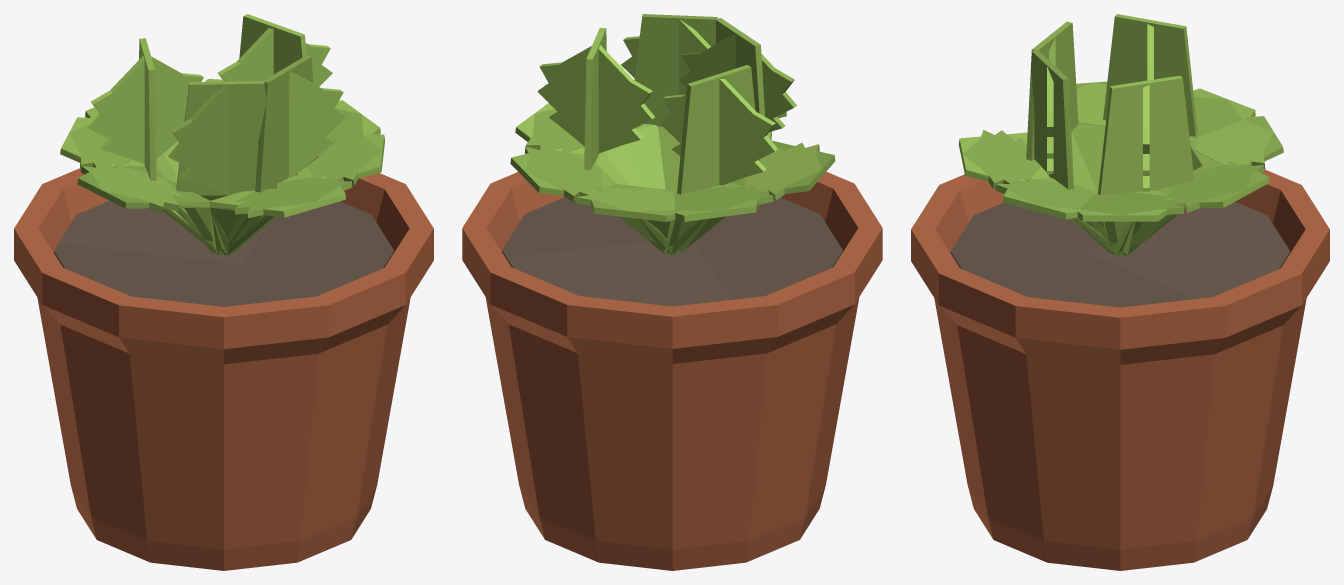
File: lettuce.glb
3 views of the same model, side by side, from view 1: azimuth 30°, elevation 25°; view 2: azimuth 150°, elevation 25°; view 3: azimuth 270°, elevation 25° (orthographic).
Parts seen in each view (by area): view 1: lettuce/review-terra-vessel, lettuce/review-rooted-soil, lettuce/leaf-020, lettuce/arching-leaf-015, lettuce/leaf-016, lettuce/leaf-022, lettuce/arching-leaf-021, lettuce/leaf-010, lettuce/leaf-018, lettuce/leaf-006, lettuce/arching-leaf-005, lettuce/leaf-012 (+8 smaller); view 2: lettuce/review-terra-vessel, lettuce/review-rooted-soil, lettuce/leaf-018, lettuce/arching-leaf-021, lettuce/arching-leaf-019, lettuce/leaf-020, lettuce/leaf-016, lettuce/leaf-008, lettuce/leaf-010, lettuce/arching-leaf-017, lettuce/leaf-014, lettuce/leaf-004 (+9 smaller); view 3: lettuce/review-terra-vessel, lettuce/review-rooted-soil, lettuce/arching-leaf-017, lettuce/arching-leaf-019, lettuce/arching-leaf-021, lettuce/arching-leaf-015, lettuce/leaf-006, lettuce/leaf-014, lettuce/leaf-008, lettuce/leaf-012, lettuce/leaf-002, lettuce/arching-leaf-001 (+9 smaller).
Part boxes in pixels (x1,y1,x2,y2): lettuce/review-terra-vessel: (14,168,433,570); lettuce/review-rooted-soil: (54,200,393,306); lettuce/leaf-020: (88,55,203,163); lettuce/arching-leaf-015: (176,81,276,251); lettuce/leaf-016: (168,85,228,193); lettuce/leaf-022: (231,71,345,177); lettuce/arching-leaf-021: (220,55,318,254); lettuce/leaf-010: (81,165,183,212); lettuce/leaf-018: (217,28,332,86); lettuce/leaf-006: (234,176,352,217); lettuce/arching-leaf-005: (210,175,345,254); lettuce/leaf-012: (307,135,382,185); lettuce/review-terra-vessel: (462,171,882,570); lettuce/review-rooted-soil: (502,197,842,306); lettuce/leaf-018: (537,45,654,153); lettuce/arching-leaf-021: (634,14,717,190); lettuce/arching-leaf-019: (665,65,760,253); lettuce/leaf-020: (660,79,777,185); lettuce/leaf-016: (679,34,796,131); lettuce/leaf-008: (524,146,602,201); lettuce/leaf-010: (745,143,821,200); lettuce/arching-leaf-017: (584,27,669,254); lettuce/leaf-014: (576,188,675,211); lettuce/leaf-004: (674,187,773,210); lettuce/review-terra-vessel: (911,169,1329,570); lettuce/review-rooted-soil: (950,202,1290,307); lettuce/arching-leaf-017: (1098,75,1194,253); lettuce/arching-leaf-019: (1103,14,1197,136); lettuce/arching-leaf-021: (1031,50,1123,255); lettuce/arching-leaf-015: (1026,21,1114,254); lettuce/leaf-006: (963,130,1040,188); lettuce/leaf-014: (1194,120,1273,168); lettuce/leaf-008: (1167,164,1264,212); lettuce/leaf-012: (995,179,1094,208); lettuce/leaf-002: (1080,192,1184,215); lettuce/arching-leaf-001: (1072,190,1172,252).
Bounding box in the file's own units: 0.19 × 0.229 × 0.19.
Materials: 3 (3 with a texture image).
